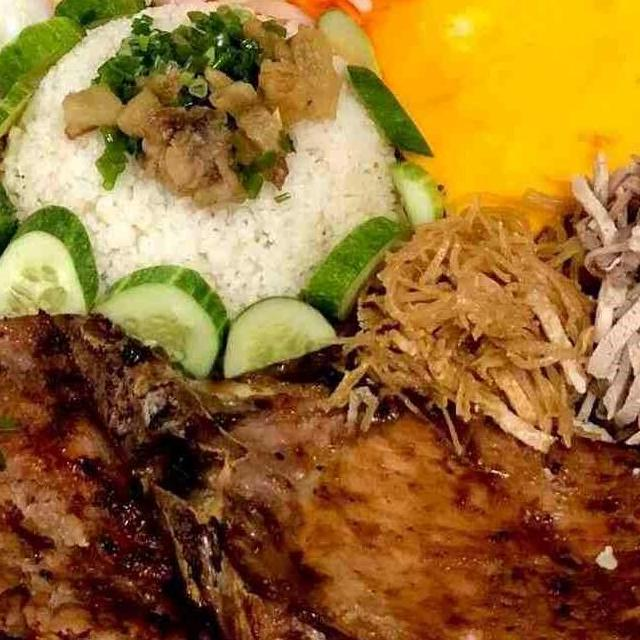bi: (317, 180, 608, 460), (547, 101, 640, 500)
com: (0, 0, 411, 329)
com suon bi trung: (0, 0, 640, 640)
suon: (60, 303, 640, 640), (0, 274, 430, 640)
trung: (0, 0, 183, 141)
